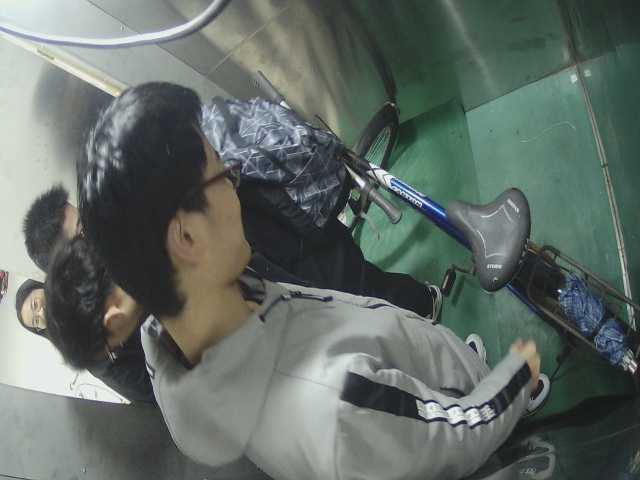bicycle: (251, 61, 630, 385)
person: (22, 95, 531, 477)
